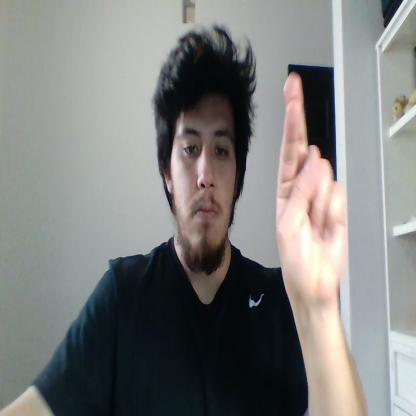R: (275, 72, 345, 305)
